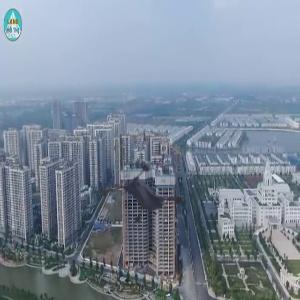drone: (111, 147, 202, 238)
